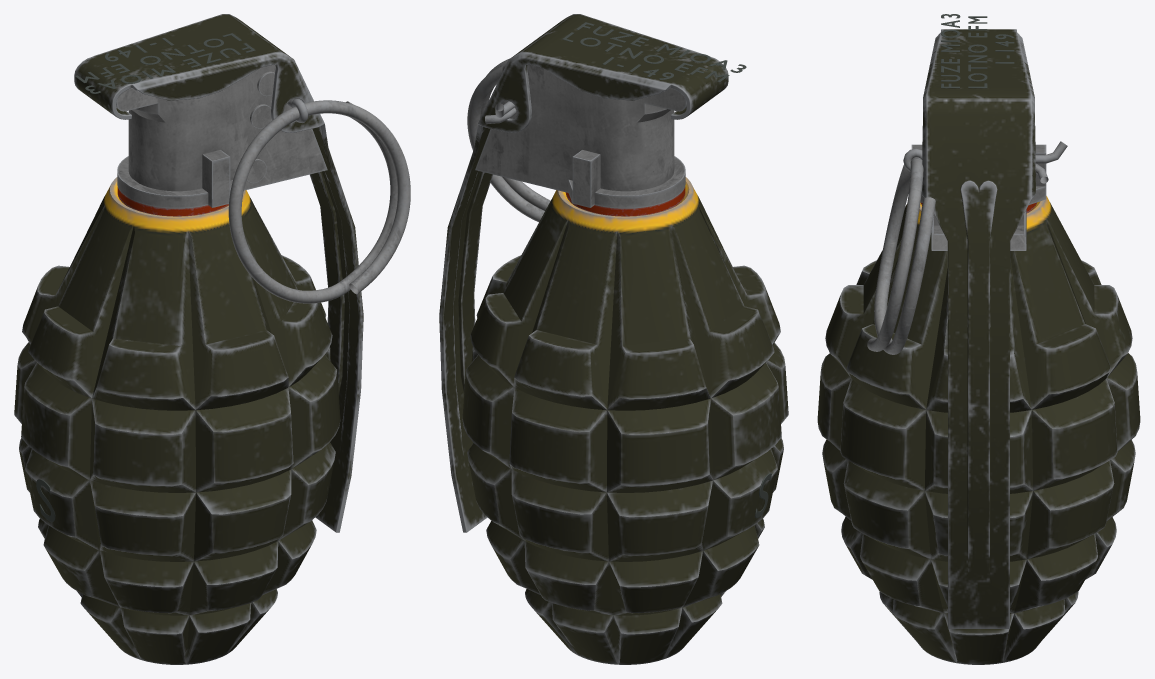
Rendered from grenade.glb.
The picture shows the model from 3 angles, left to right: view 1: azimuth 30°, elevation 25°; view 2: azimuth 150°, elevation 25°; view 3: azimuth 270°, elevation 25°; orthographic projection.
Parts seen in each view (by area): view 1: Cylinder.001_low_19, Cylinder.005_low_9, Cylinder.002_low_6, Circle_low_5, Text.004_16, Cylinder.006_low_10; view 2: Cylinder.001_low_19, Cylinder.005_low_9, Cylinder.002_low_6, Circle_low_5, Text.004_16, Cylinder.006_low_10; view 3: Cylinder.001_low_19, Cylinder.005_low_9, Circle_low_5, Text.004_16, Cylinder.002_low_6, Circle.001_low_4.
Boxes of the visible parts, box(x1,y1,x2,y2) form: Cylinder.001_low_19: box(14, 177, 340, 664); Cylinder.005_low_9: box(74, 14, 363, 532); Cylinder.002_low_6: box(116, 64, 327, 208); Circle_low_5: box(228, 100, 410, 303); Text.004_16: box(75, 33, 255, 93); Cylinder.006_low_10: box(117, 187, 228, 216); Cylinder.001_low_19: box(462, 177, 788, 664); Cylinder.005_low_9: box(439, 14, 728, 532); Cylinder.002_low_6: box(475, 64, 686, 208); Circle_low_5: box(467, 58, 550, 222); Text.004_16: box(562, 22, 746, 82); Cylinder.006_low_10: box(565, 187, 685, 216); Cylinder.001_low_19: box(817, 196, 1140, 664); Cylinder.005_low_9: box(922, 29, 1035, 628); Circle_low_5: box(867, 157, 935, 354); Text.004_16: box(941, 14, 1014, 88); Cylinder.002_low_6: box(911, 144, 1046, 250); Circle.001_low_4: box(903, 141, 1067, 183).
Size of the model in its own units: 0.0835 by 0.1412 by 0.0713.
2 materials, 1 textured.
